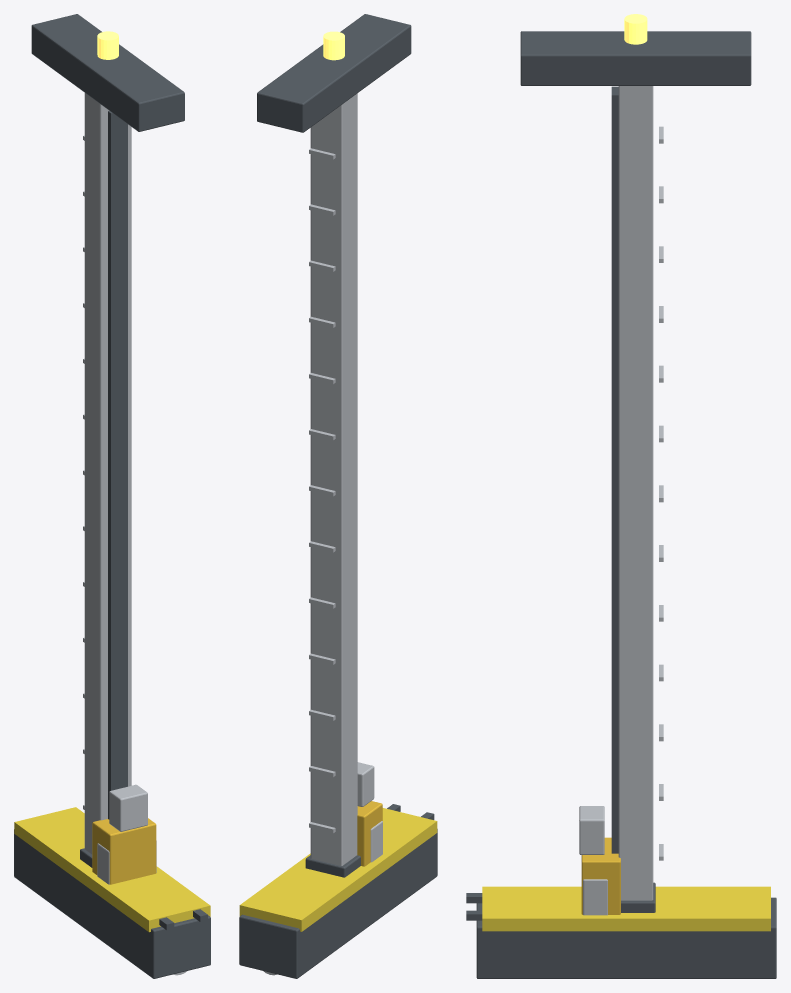
File: crane_standard.glb
The picture shows the model from 3 angles, left to right: view 1: azimuth 30°, elevation 25°; view 2: azimuth 150°, elevation 25°; view 3: azimuth 270°, elevation 25°; orthographic projection. The views are drawn at different scales.
Parts seen in each view (by area): view 1: mast, mast_channel, base, top, hazard, platform, cabinet, beacon, fork_carriage; view 2: mast, base, top, hazard, platform, cabinet, carriage_yoke, beacon, fork_carriage; view 3: mast, base, top, hazard, mast_channel, platform, cabinet, fork_carriage, beacon.
Part boxes in pixels (x1,y1,x2,y2): mast: [84, 93, 131, 854]; mast_channel: [108, 111, 127, 819]; base: [14, 829, 210, 978]; top: [31, 14, 184, 131]; hazard: [14, 807, 210, 932]; platform: [92, 818, 156, 884]; cabinet: [109, 784, 147, 831]; beacon: [97, 31, 118, 59]; fork_carriage: [97, 840, 156, 884]; mast: [310, 93, 357, 865]; base: [239, 829, 437, 978]; top: [257, 14, 411, 132]; hazard: [239, 808, 437, 931]; platform: [357, 801, 382, 866]; cabinet: [357, 762, 374, 806]; carriage_yoke: [305, 855, 360, 877]; beacon: [323, 31, 344, 60]; fork_carriage: [370, 821, 382, 862]; mast: [618, 86, 653, 900]; base: [476, 897, 776, 978]; top: [520, 31, 751, 85]; hazard: [482, 886, 770, 931]; mast_channel: [611, 86, 618, 853]; platform: [581, 837, 620, 914]; cabinet: [579, 806, 604, 854]; fork_carriage: [583, 879, 607, 915]; beacon: [624, 14, 647, 44].
Bounding box in the file's own units: 0.66 × 9.08 × 2.69.
